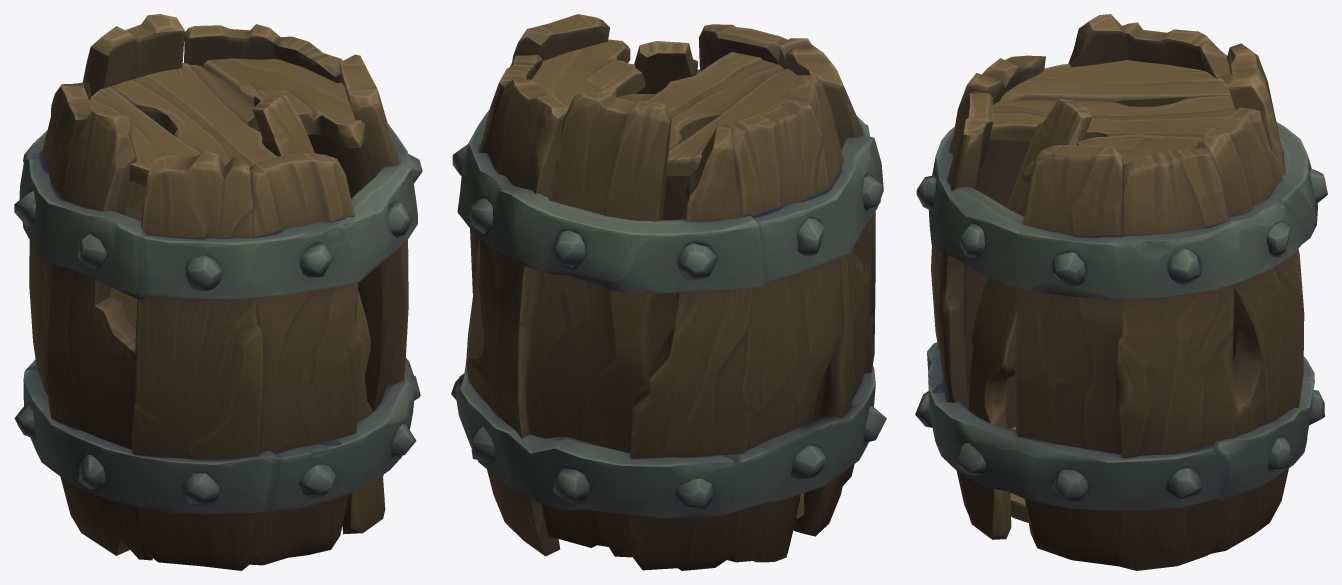
Rendered from SM_FW01_Barrel_B_02.fbx.
The picture shows the model from 3 angles, left to right: view 1: azimuth 30°, elevation 25°; view 2: azimuth 150°, elevation 25°; view 3: azimuth 270°, elevation 25°; orthographic projection. The views are drawn at different scales.
Visible parts, largest first — view 1: SM_FW01_Barrel_B_02_LOD0; view 2: SM_FW01_Barrel_B_02_LOD0; view 3: SM_FW01_Barrel_B_02_LOD0.
Boxes of the visible parts, left/top/right/bottom form: SM_FW01_Barrel_B_02_LOD0: left=14, top=14, right=422, bottom=570; SM_FW01_Barrel_B_02_LOD0: left=451, top=14, right=886, bottom=570; SM_FW01_Barrel_B_02_LOD0: left=915, top=14, right=1327, bottom=570.
Size of what is drawn, in the model's own units: 0.9584 by 1.18 by 0.9998.
